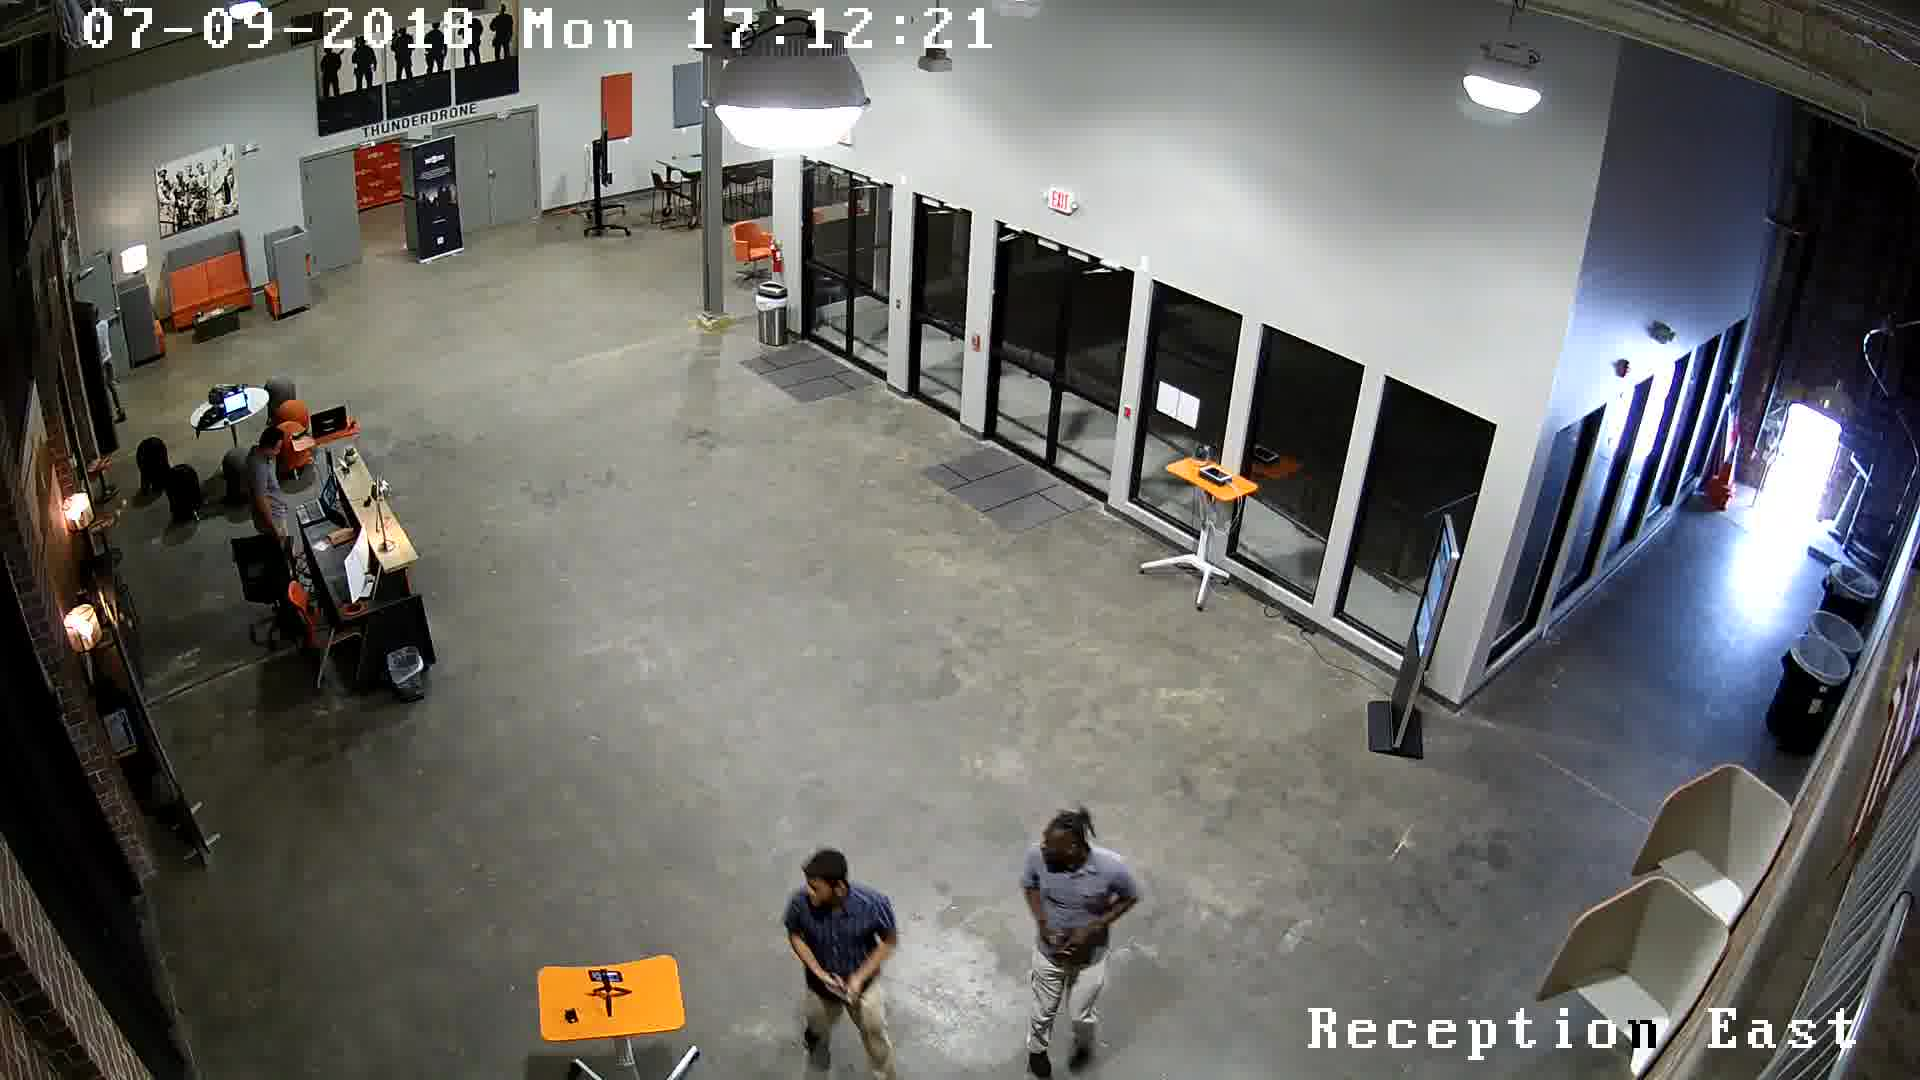pistol: (1034, 927, 1092, 978), (819, 973, 872, 1014)
